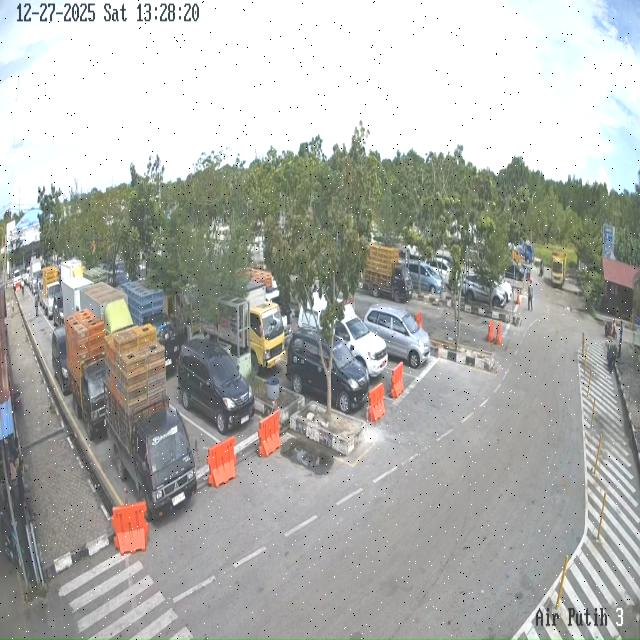Golongan IVA: (298, 292, 388, 378), (178, 338, 255, 434), (286, 328, 370, 414), (364, 304, 430, 368), (463, 274, 507, 308), (408, 262, 443, 294), (428, 256, 450, 286), (504, 262, 525, 281)
Golongan IVB: (104, 302, 197, 521), (64, 300, 108, 451), (363, 243, 413, 303), (41, 266, 59, 317)
Golongan VB: (201, 281, 286, 374), (80, 282, 127, 320), (551, 252, 567, 288)
